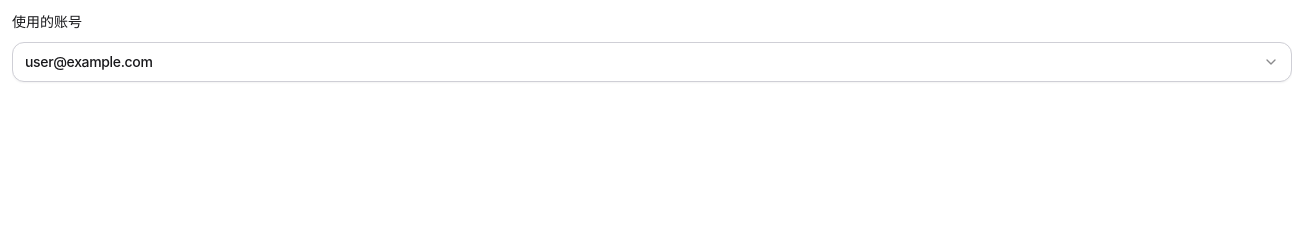
it: CodexOAuthSection › selects a specific account when multiple accounts are managed
Step 1. Click the dropdown → [89, 62], box 12,42 -> 1292,82
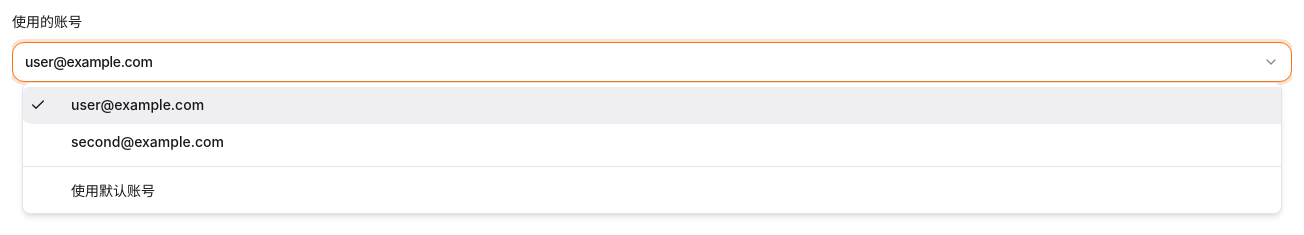
Step 2. Click the option "second@example.com" → [147, 142], box 71,133 -> 224,150
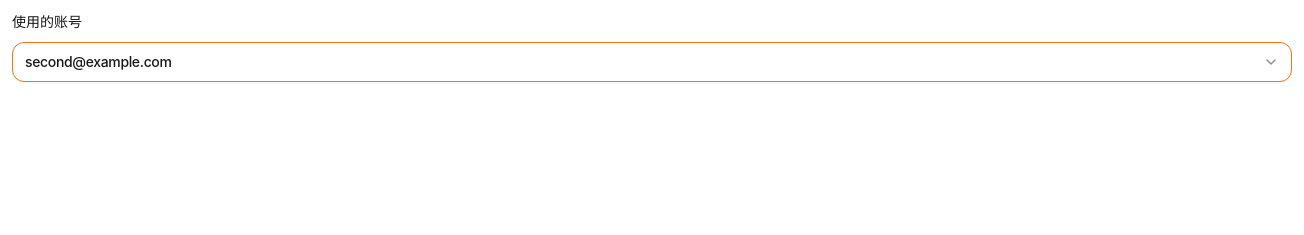
Check: the dropdown reads "second@example.com", box 12,42 -> 1292,82
